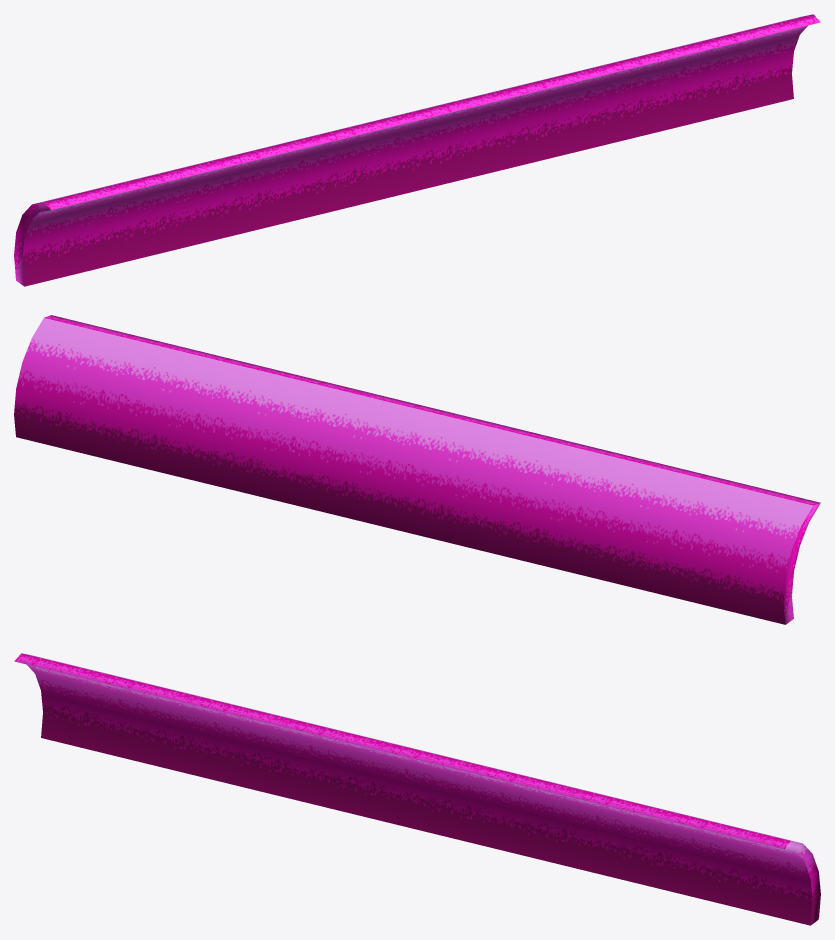
The model's file is Snakey Wave.fbx.
The picture shows the model from 3 angles, top to bottom: view 1: azimuth 30°, elevation 25°; view 2: azimuth 150°, elevation 25°; view 3: azimuth 330°, elevation 25°; orthographic projection.
Visible parts, largest first — view 1: Snakey_Wave; view 2: Snakey_Wave; view 3: Snakey_Wave.
Part boxes in pixels (x1=…): Snakey_Wave: x1=14, y1=14, x2=820, y2=286; Snakey_Wave: x1=14, y1=315, x2=820, y2=624; Snakey_Wave: x1=14, y1=653, x2=820, y2=925.
Size of the model in its own units: 366 by 44.93 by 30.8.
